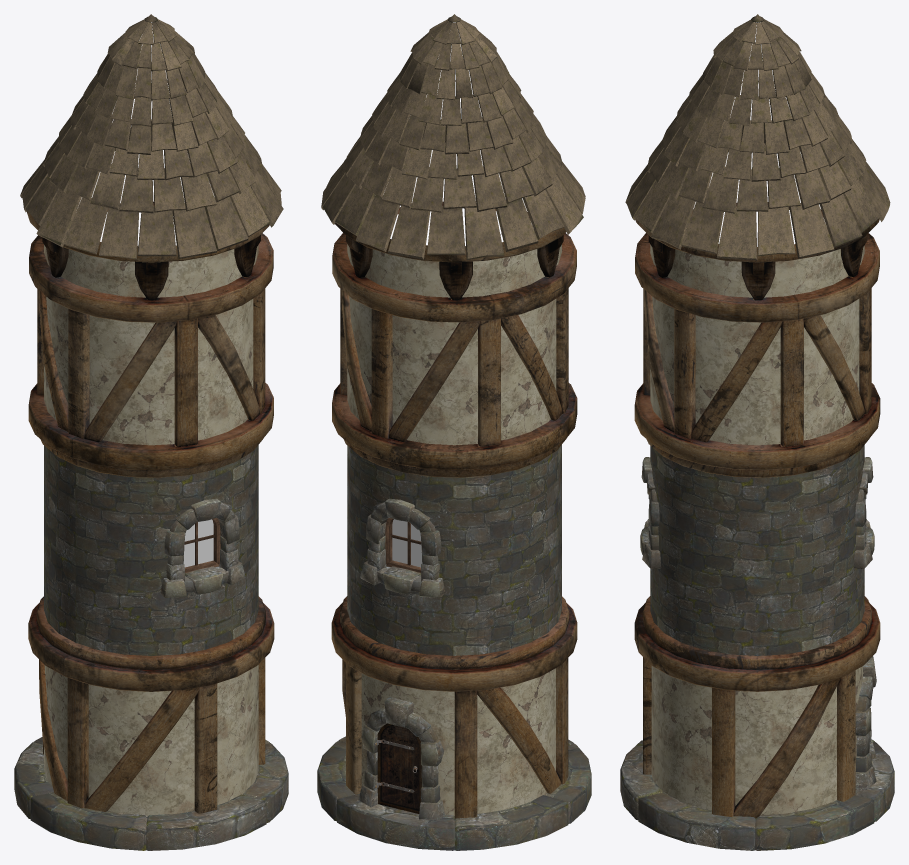
Rendered from medieval_tower.glb.
3 views of the same model, side by side, from view 1: azimuth 30°, elevation 25°; view 2: azimuth 150°, elevation 25°; view 3: azimuth 270°, elevation 25° (orthographic).
Parts seen in each view (by area): view 1: Tower; view 2: Tower; view 3: Tower.
Part boxes in pixels (<box>): Tower: <box>14,14,288,850</box>; Tower: <box>317,14,591,850</box>; Tower: <box>620,14,894,850</box>.
Size of the model in its own units: 619 by 1944 by 620.
5 materials, 4 textured.
